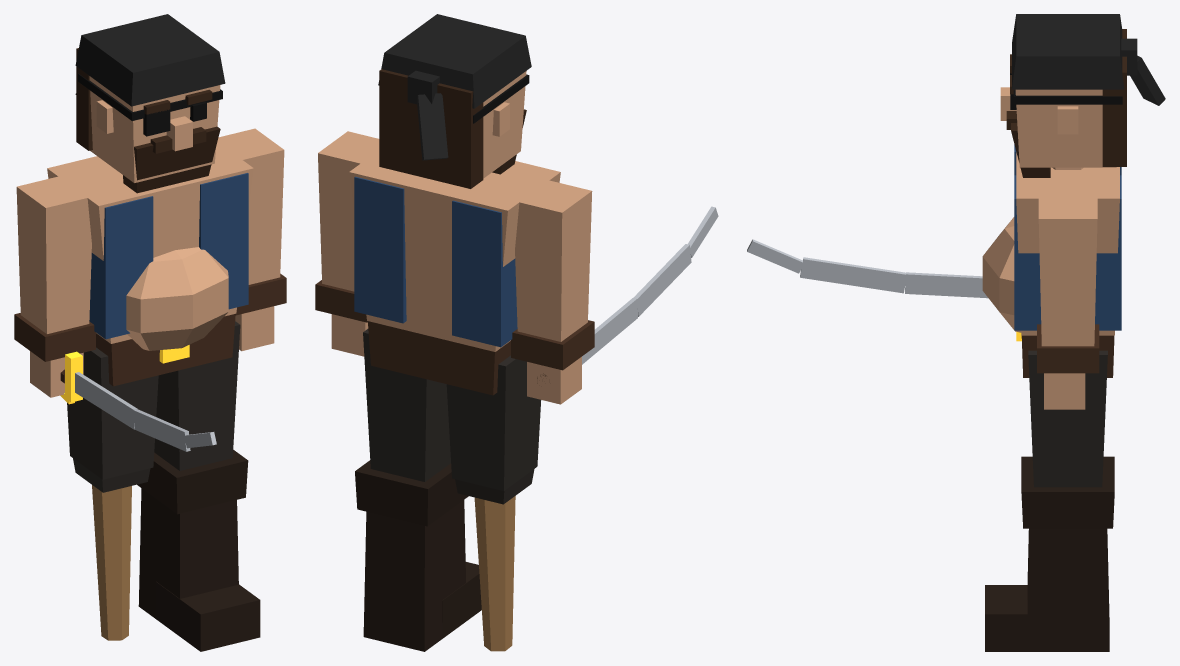
Rendered from Pirate_B.fbx.
3 views of the same model, side by side, from view 1: azimuth 30°, elevation 25°; view 2: azimuth 150°, elevation 25°; view 3: azimuth 270°, elevation 25° (orthographic). The views are drawn at different scales.
Parts seen in each view (by area): view 1: Body, LegL, Head, ArmR, LegR, ArmL, Sword; view 2: Body, LegL, Head, LegR, ArmR, ArmL, Sword; view 3: LegL, Head, Body, ArmL, Sword.
Boxes of the visible parts, bbox=[...] form: Body: bbox=[47, 142, 253, 386]; LegL: bbox=[137, 321, 260, 651]; Head: bbox=[75, 14, 225, 193]; ArmR: bbox=[14, 176, 95, 397]; LegR: bbox=[67, 347, 158, 640]; ArmL: bbox=[217, 128, 286, 351]; Sword: bbox=[60, 351, 216, 451]; Body: bbox=[349, 150, 560, 395]; LegL: bbox=[355, 329, 481, 651]; Head: bbox=[378, 14, 531, 188]; LegR: bbox=[446, 355, 541, 651]; ArmR: bbox=[511, 180, 594, 404]; ArmL: bbox=[315, 131, 379, 356]; Sword: bbox=[537, 206, 718, 383]; LegL: bbox=[985, 350, 1114, 651]; Head: bbox=[1000, 14, 1165, 177]; Body: bbox=[982, 144, 1121, 377]; ArmL: bbox=[1037, 195, 1099, 409]; Sword: bbox=[747, 239, 988, 298].
Bounding box in the file's own units: 0.81 × 1.86 × 1.21.
